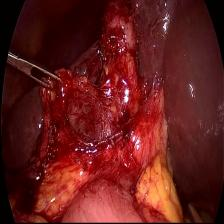Grasper: (9, 48, 65, 108)
